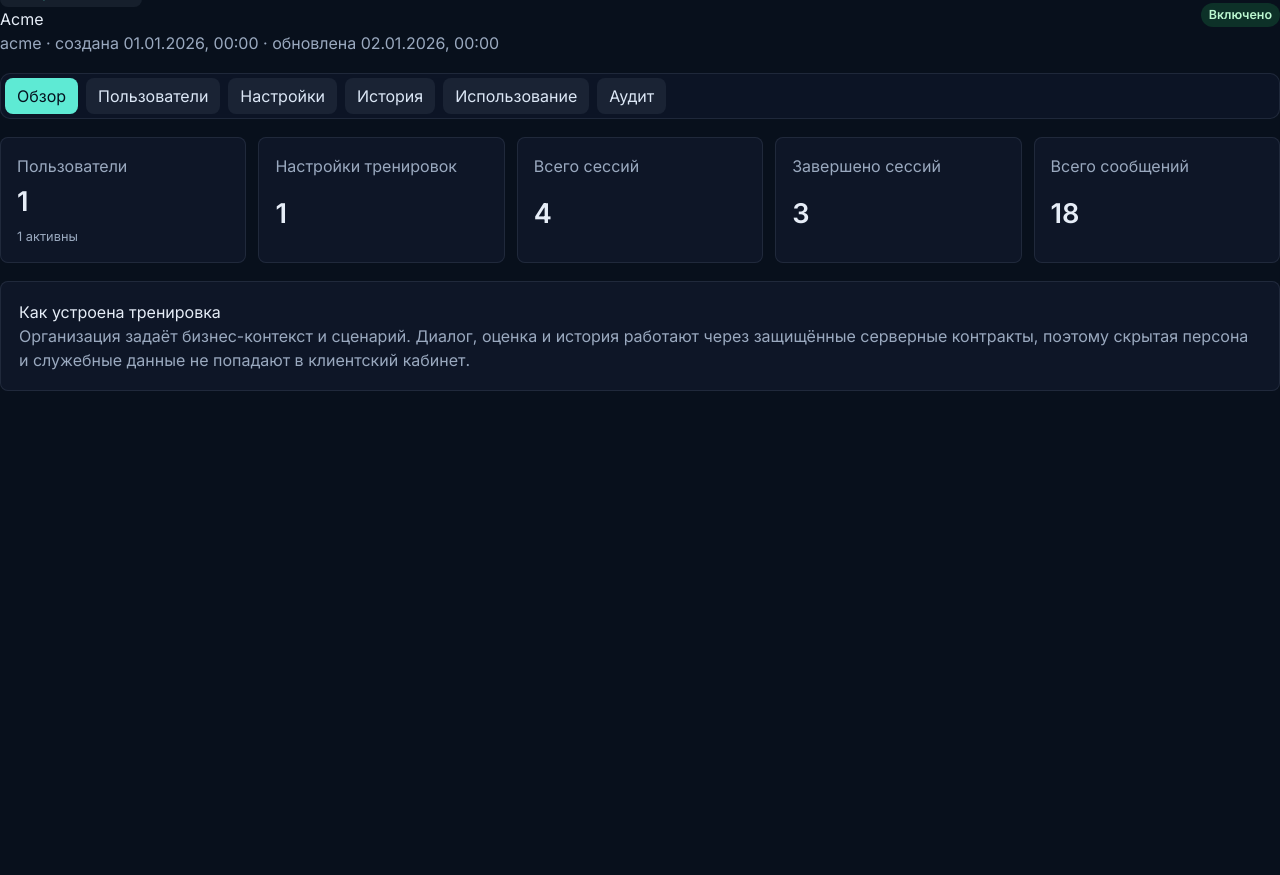
Test case: OrganizationDetailPage training configs › renders token usage chart with range tabs and period sum
The image size is (1280, 875).
What coordinates should you click on to do the following:
click the button "Использование"
I would click on:
 (516, 96)
Its box is [443,78,589,114].
(page scrolled)
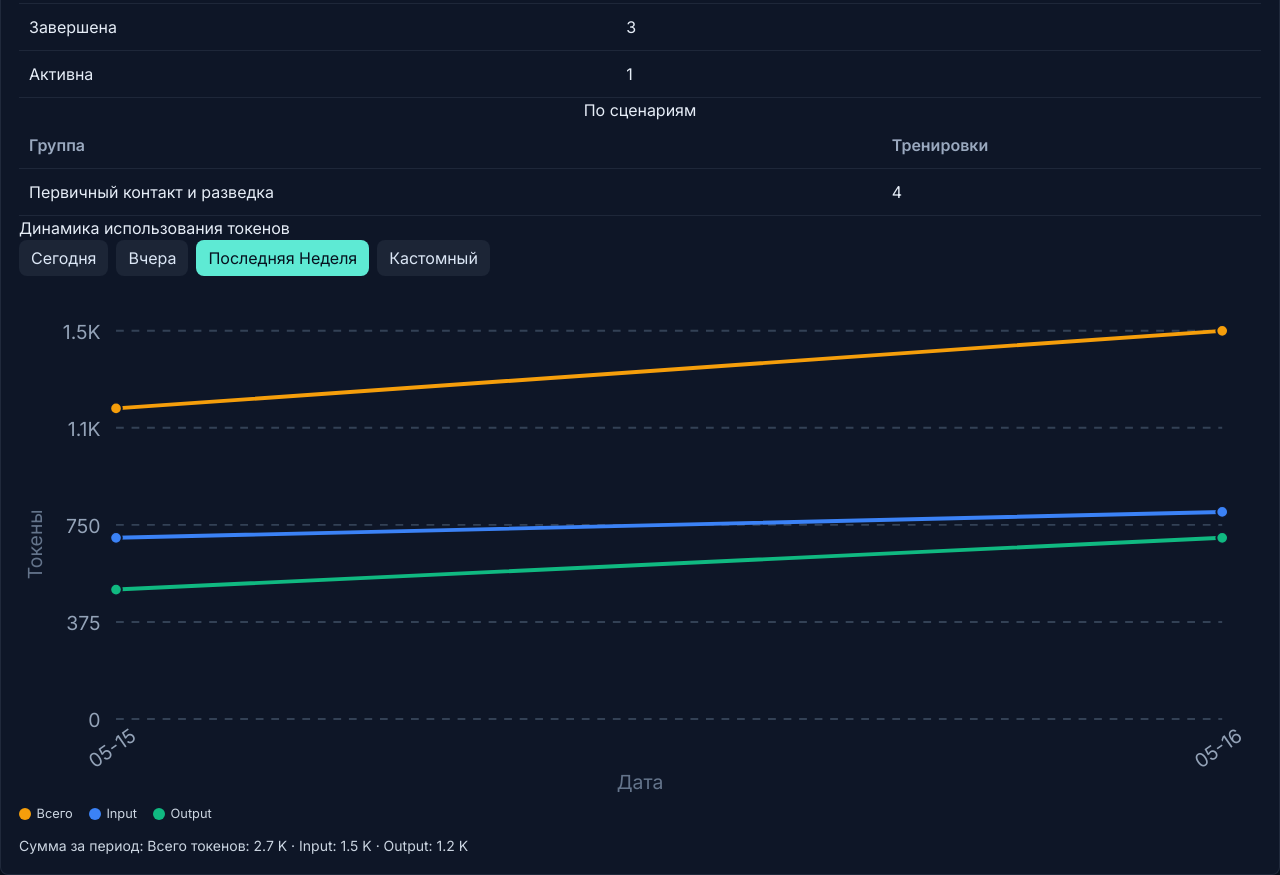
Result: the heading "Динамика использования токенов" is shown at [19,216,290,240]
Result: the button "Сегодня" is shown at [19,240,108,276]
Result: the button "Вчера" is shown at [116,240,188,276]
